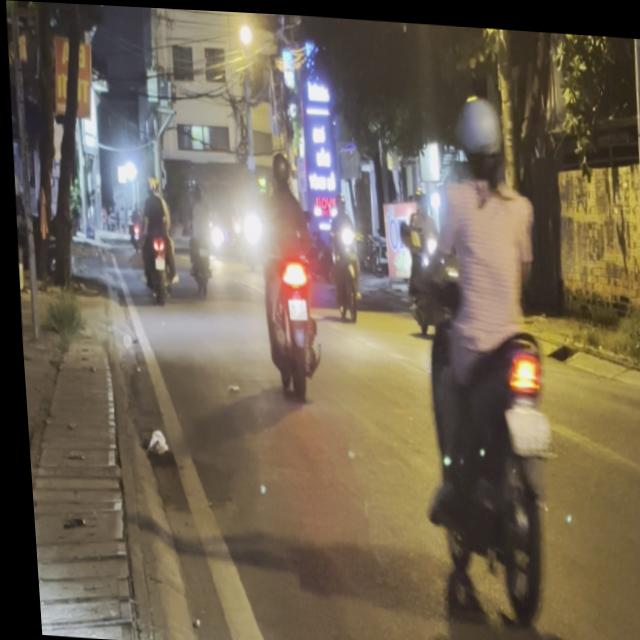helmet: (453, 87, 508, 180), (267, 146, 292, 185)
licenseplate: (392, 81, 572, 640), (247, 141, 323, 397)
nohelmet: (499, 401, 549, 448), (284, 295, 303, 318)
